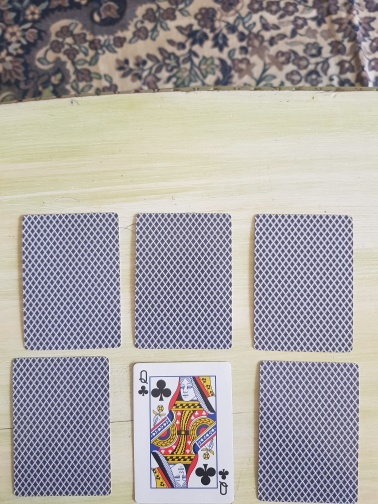queen: (131, 361, 235, 504)
